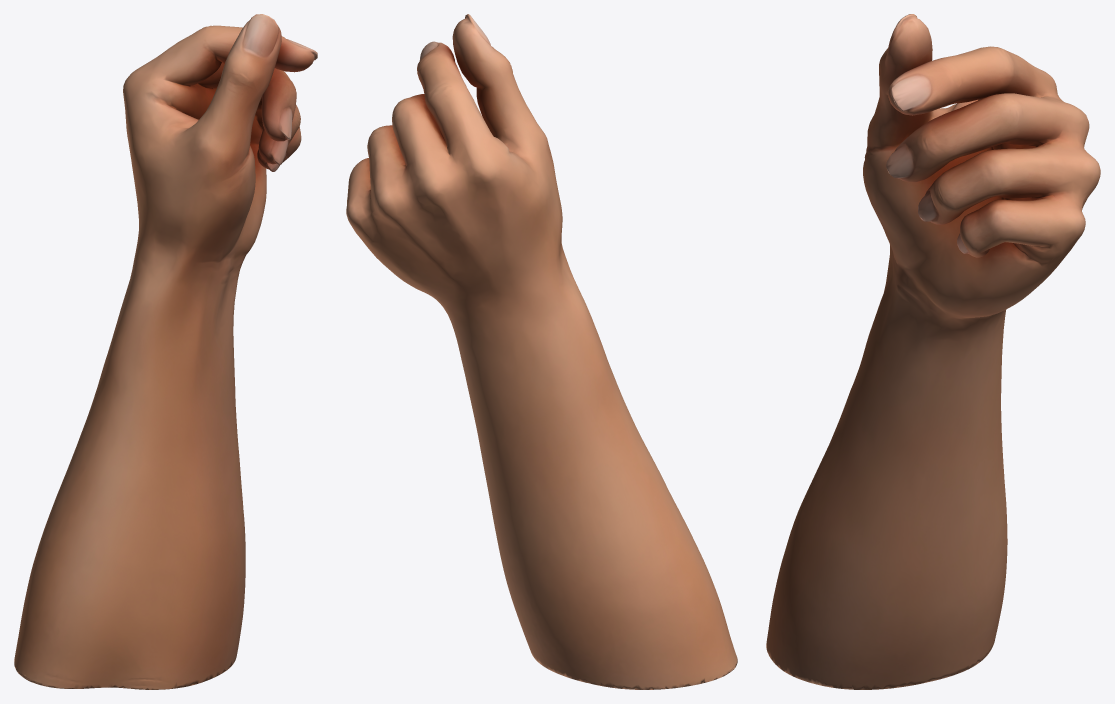
Rendered from hand_left.glb.
3 views of the same model, side by side, from view 1: azimuth 30°, elevation 25°; view 2: azimuth 150°, elevation 25°; view 3: azimuth 270°, elevation 25° (orthographic). The views are drawn at different scales.
Parts seen in each view (by area): view 1: tripo_node_eb8ef587-d86f-4dc3-893f-1b3be5964702; view 2: tripo_node_eb8ef587-d86f-4dc3-893f-1b3be5964702; view 3: tripo_node_eb8ef587-d86f-4dc3-893f-1b3be5964702.
Part boxes in pixels (x1,y1,x2,y2): tripo_node_eb8ef587-d86f-4dc3-893f-1b3be5964702: (14, 14, 317, 689); tripo_node_eb8ef587-d86f-4dc3-893f-1b3be5964702: (346, 14, 737, 689); tripo_node_eb8ef587-d86f-4dc3-893f-1b3be5964702: (766, 14, 1100, 689).
Size of the model in its own units: 0.5565 by 0.9794 by 0.42.
1 material, 1 textured.
